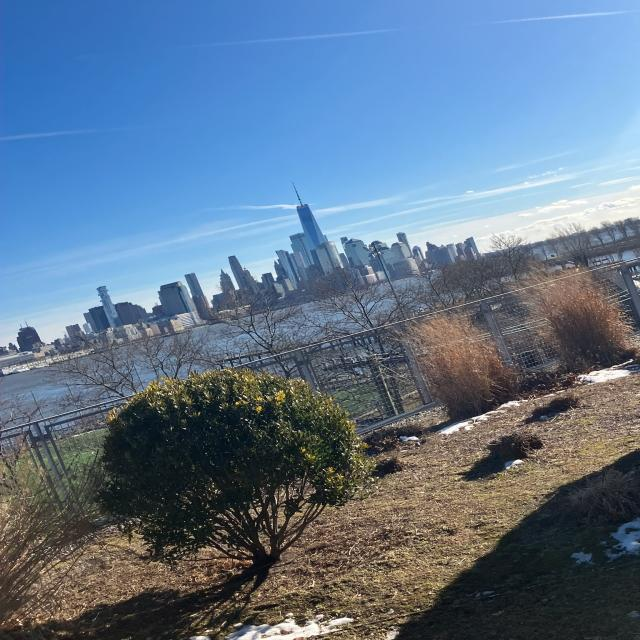WTC: (286, 181, 327, 247)
